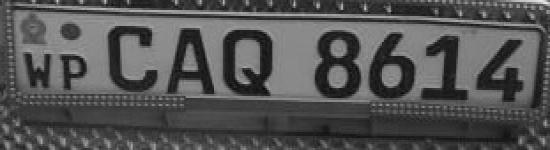1: (422, 28, 471, 105)
4: (475, 34, 533, 107)
6: (363, 26, 420, 99)
8: (308, 27, 364, 102)
A: (161, 19, 218, 98)
C: (104, 17, 160, 93)
P: (56, 51, 92, 92)
Q: (218, 20, 284, 98)
W: (23, 49, 55, 92)
